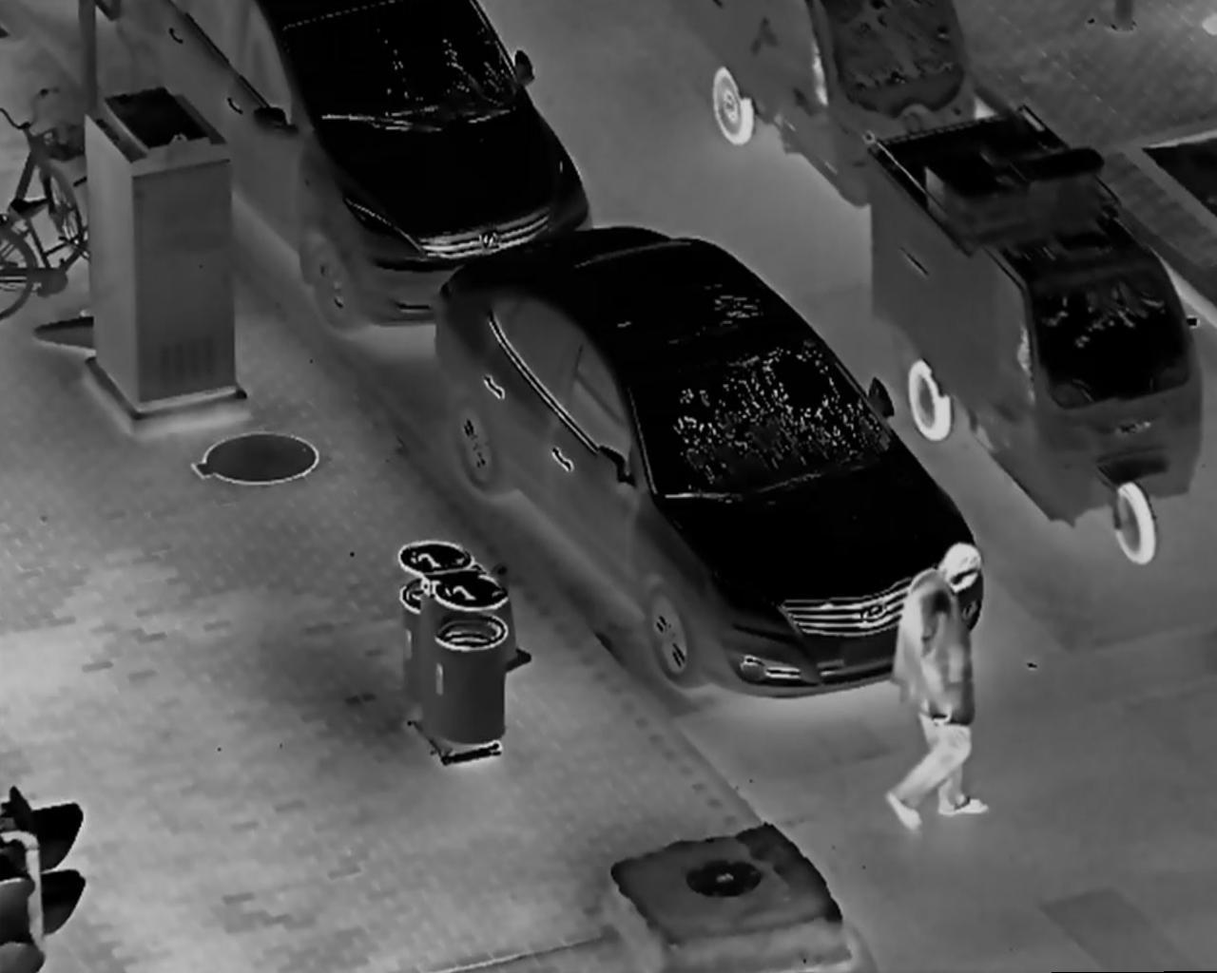person: (889, 538, 998, 830)
